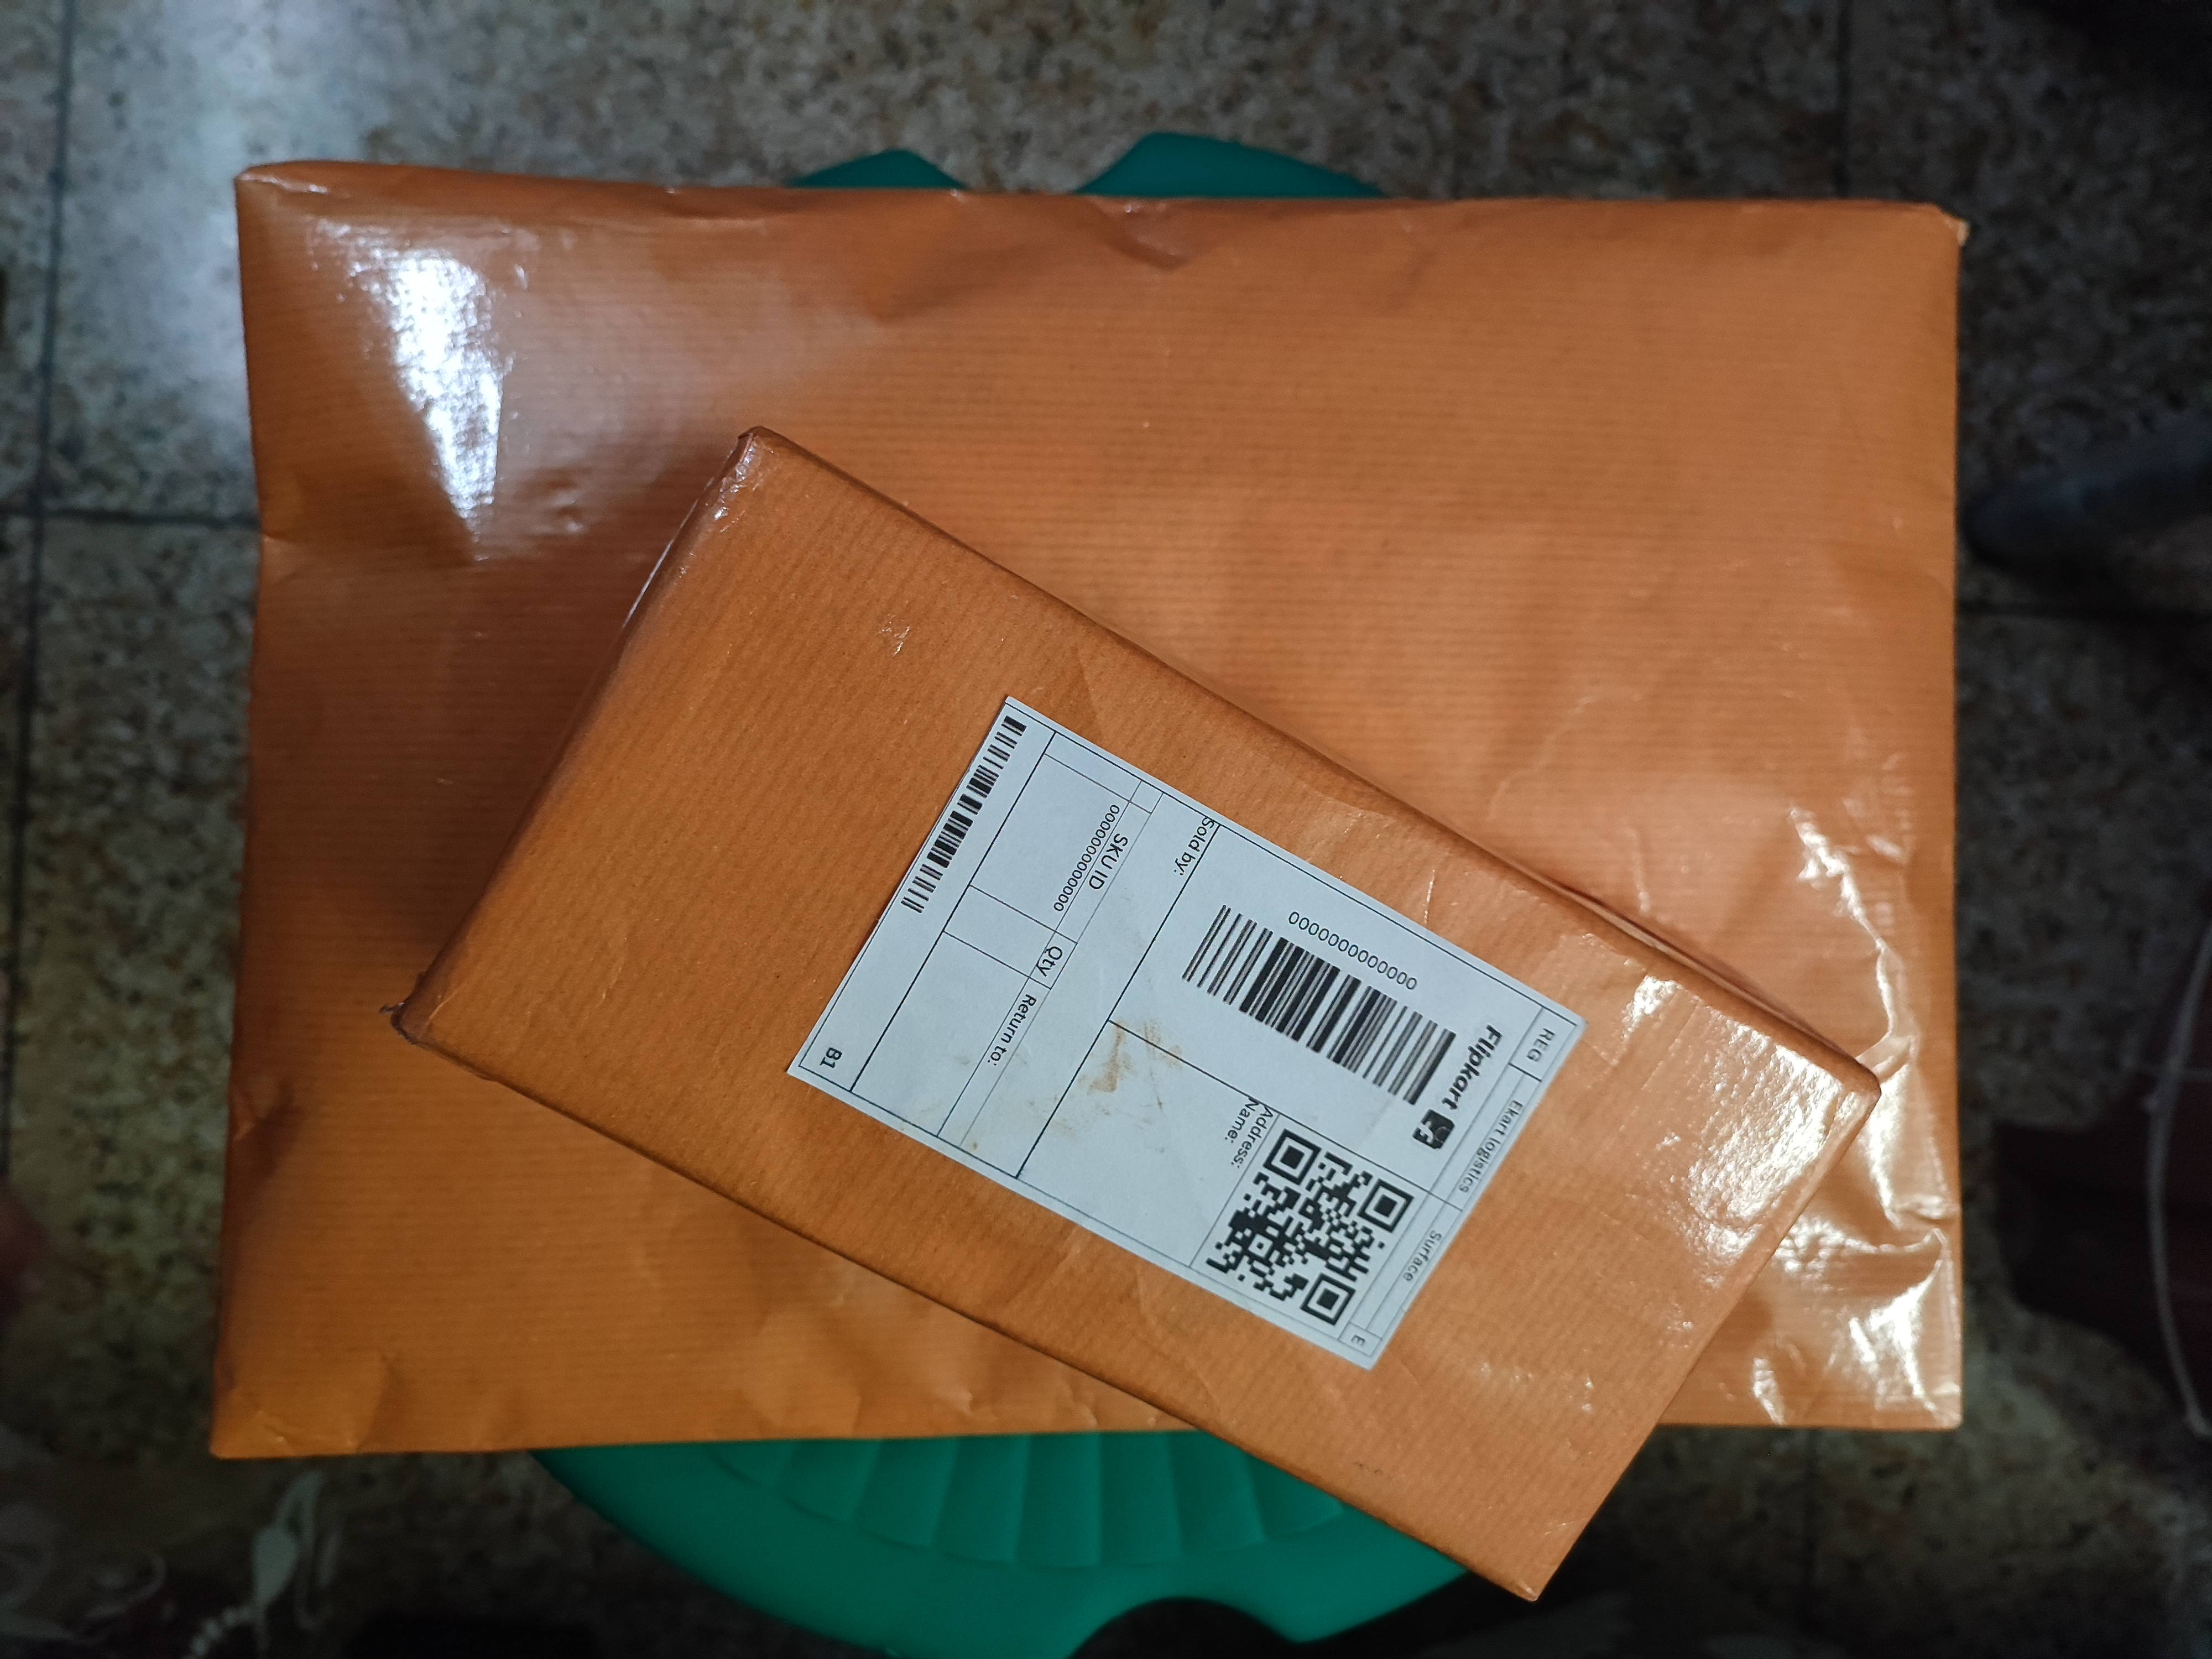Box: (183, 127, 2043, 1490), (395, 382, 1905, 1621)
